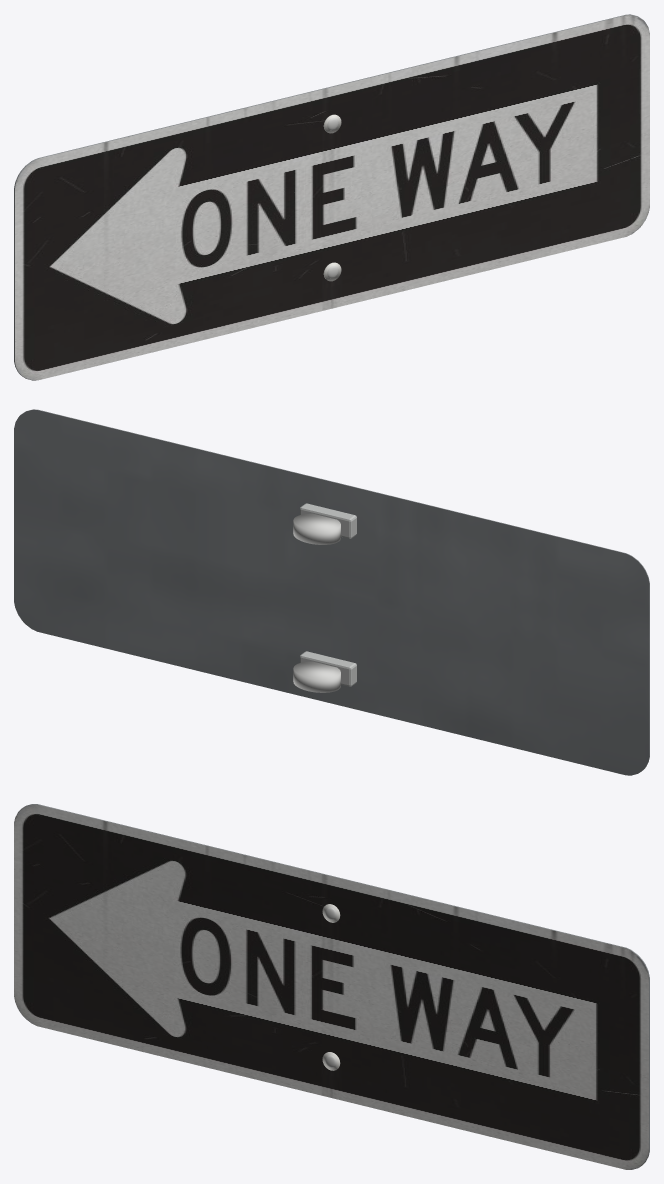
The model's file is oneWayLeft-v1.glb.
3 renders of one model, top to bottom at view 1: azimuth 30°, elevation 25°; view 2: azimuth 150°, elevation 25°; view 3: azimuth 330°, elevation 25°, orthographic.
Visible parts, largest first — view 1: oneWayLeft-v1; view 2: oneWayLeft-v1; view 3: oneWayLeft-v1.
Boxes of the visible parts, x1,y1,x2,y2 form: oneWayLeft-v1: (14, 14, 649, 380); oneWayLeft-v1: (14, 409, 649, 775); oneWayLeft-v1: (14, 804, 649, 1169).
Size of the model in its own units: 1.22 by 0.4066 by 0.0871.
Materials: 1 (1 with a texture image).
